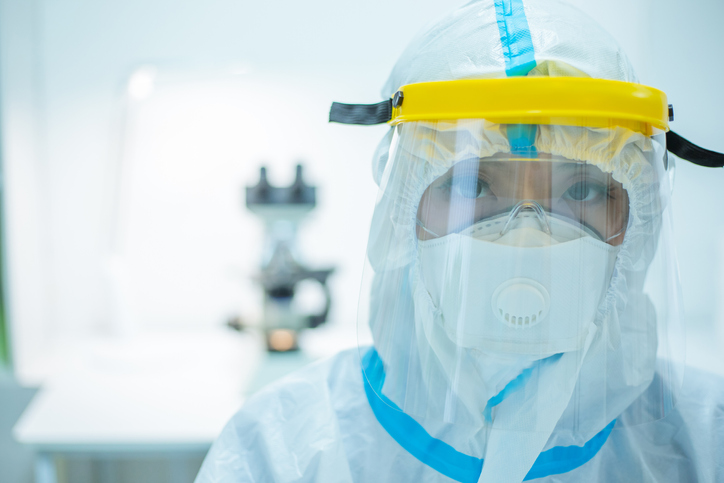Goggles: (409, 152, 650, 249)
with_mask: (419, 185, 617, 361)
